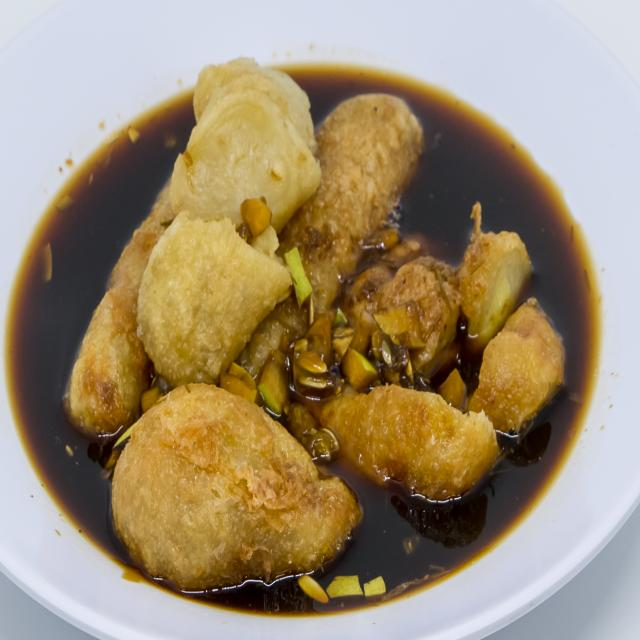Pempek-Palembang: (51, 47, 576, 604)
